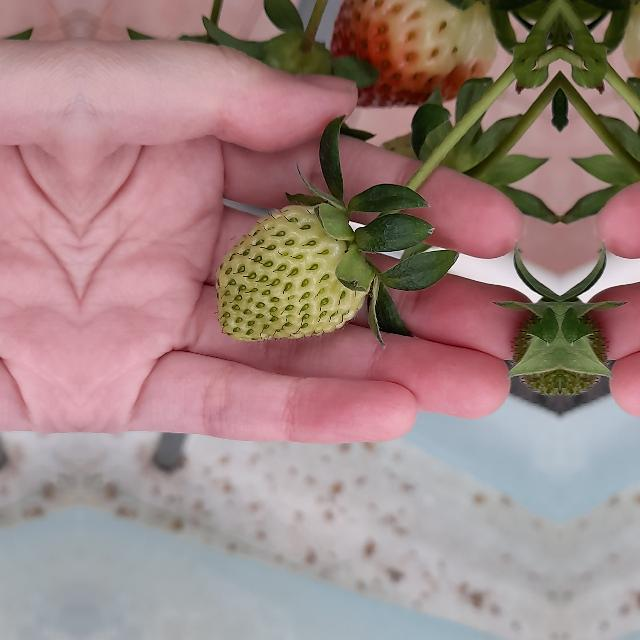Health_25: (216, 205, 370, 342)
Health_75: (325, 0, 505, 114)
